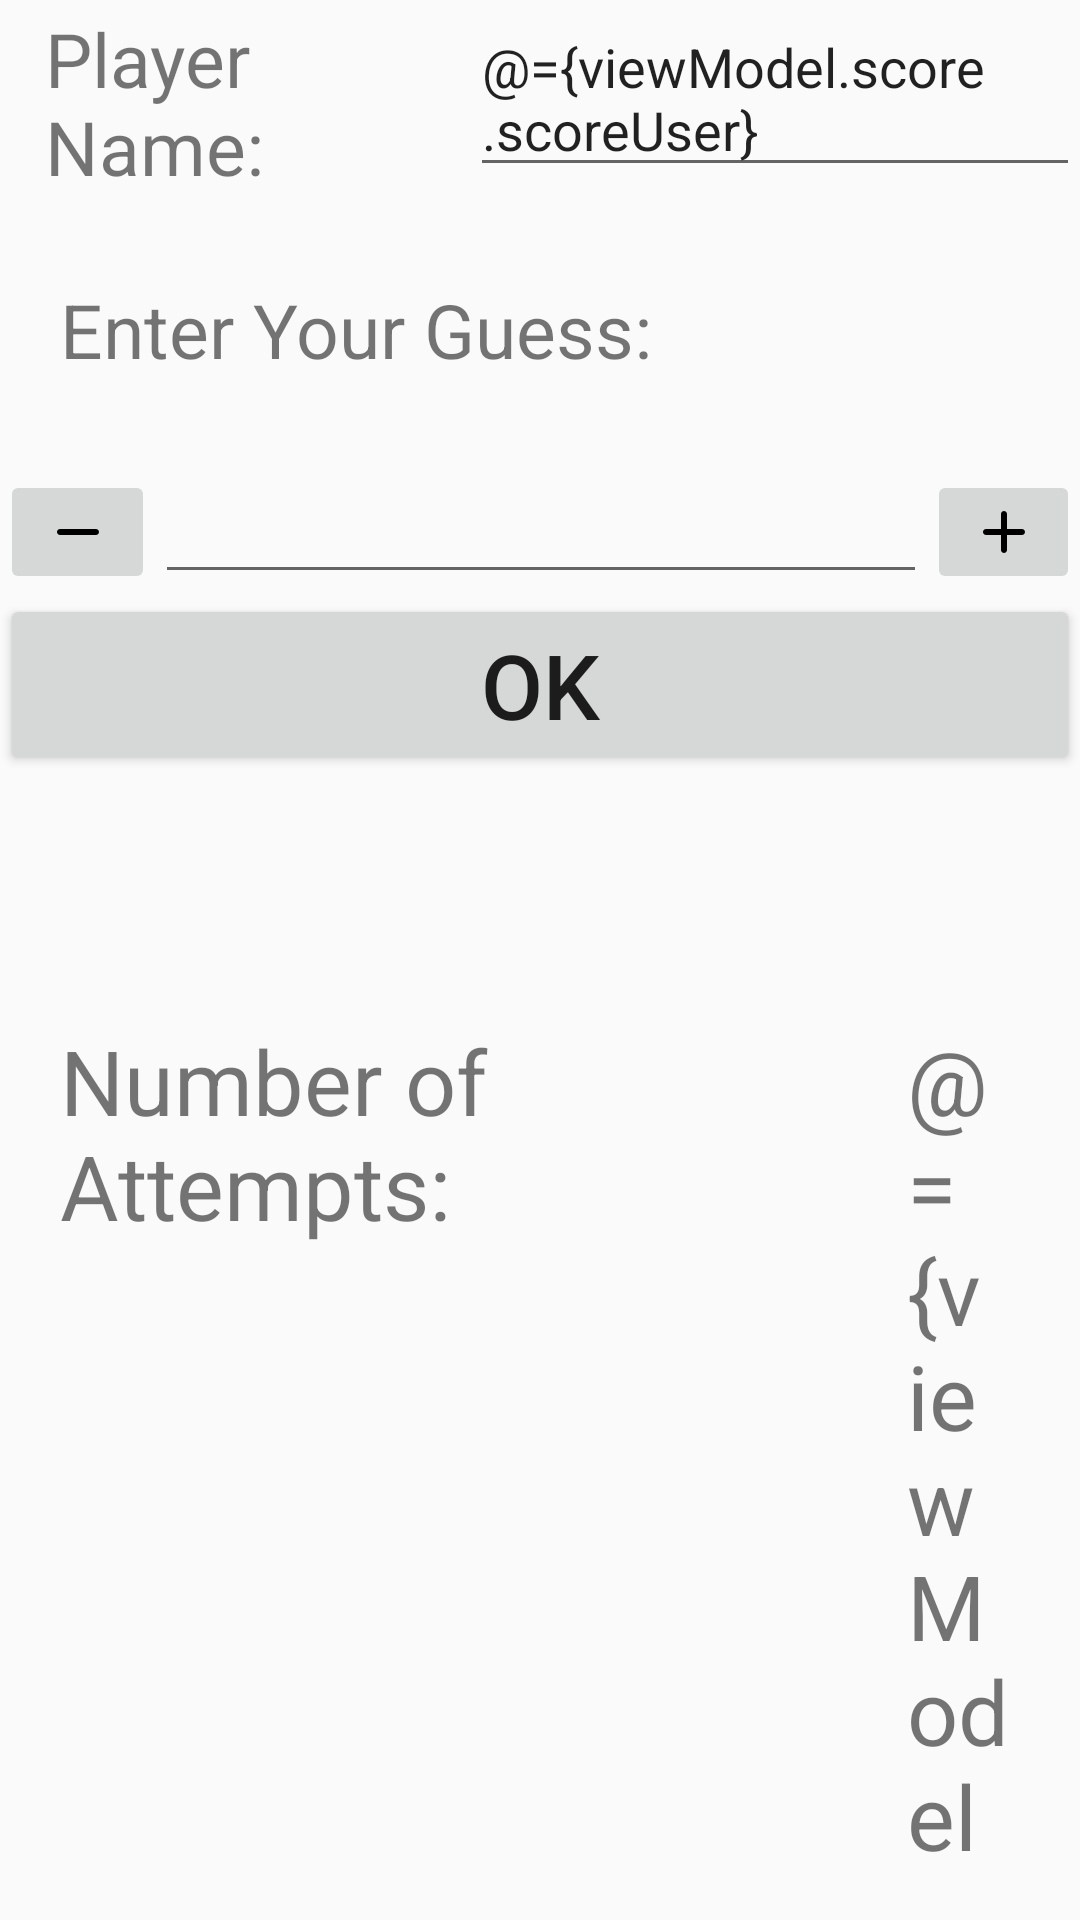

Screen size 1080 x 1920. Icon name, then its box in pixels as (x1, y1, x2, y2):
minus: (12, 488, 143, 576)
plus: (939, 488, 1068, 576)
